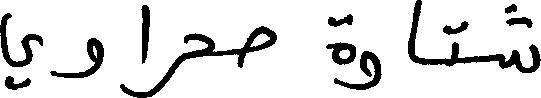X: (0, 8, 40, 94), (500, 0, 540, 77), (56, 33, 103, 82), (334, 9, 353, 93), (150, 50, 181, 97), (243, 21, 273, 67), (183, 28, 212, 65), (360, 46, 381, 94), (407, 0, 421, 68), (142, 0, 148, 97), (451, 22, 459, 70)
